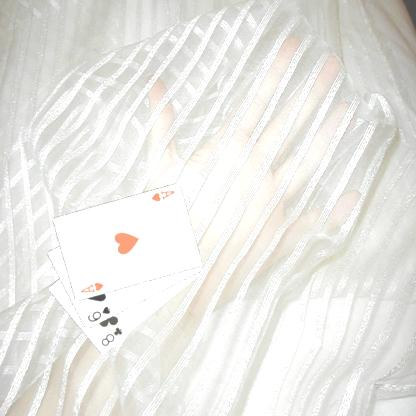6S: (84, 304, 112, 324)
8C: (98, 324, 124, 348)
AH: (148, 188, 176, 203), (78, 280, 104, 294)
